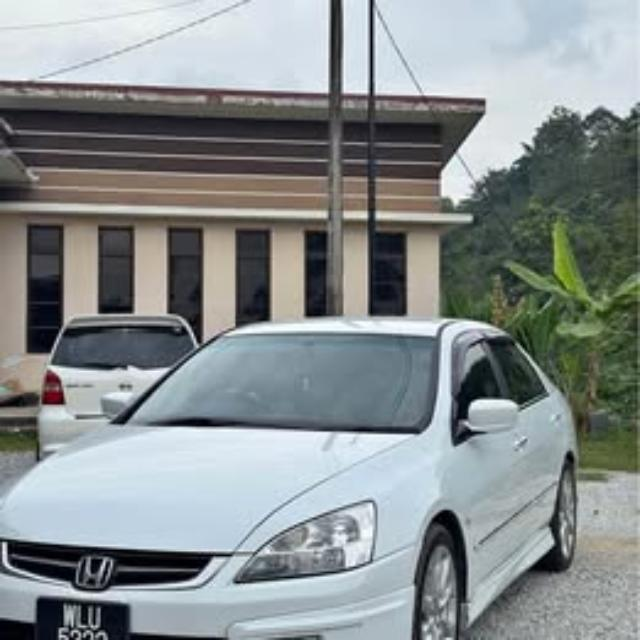License_Plate: (33, 594, 131, 638)
car: (1, 316, 579, 639)
